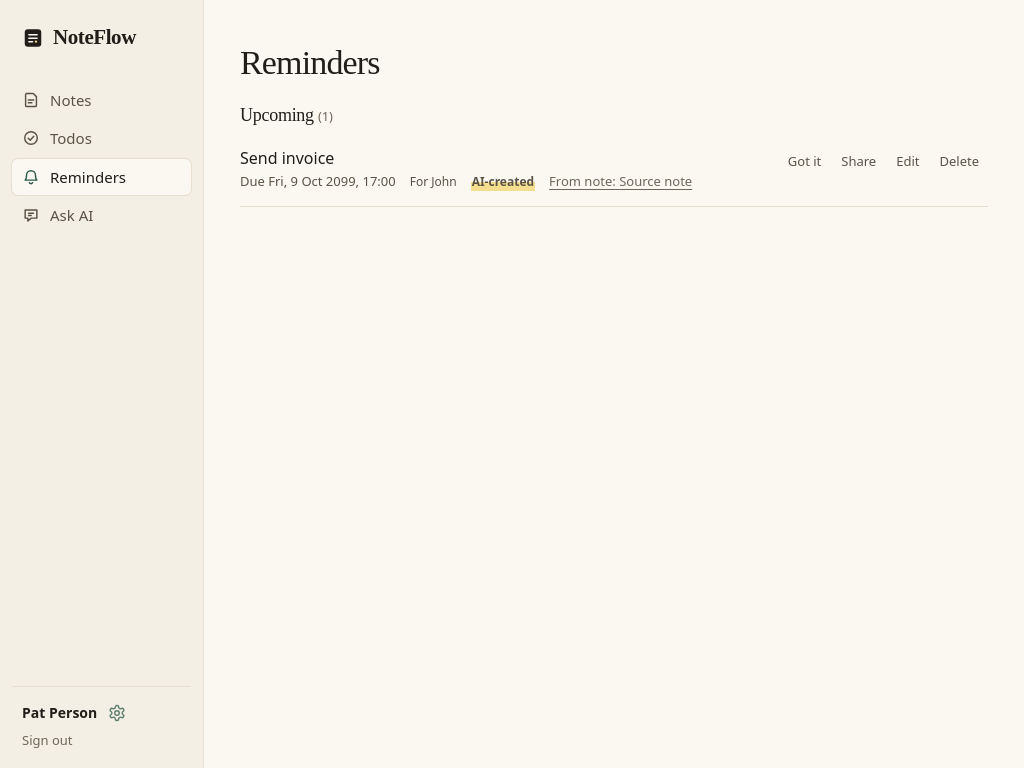
Test: editing › pre-fills text, person and the due date/time in the user timezone
Click the button with aria-label "edit: send invoice": (908, 161) [887,147,928,175]
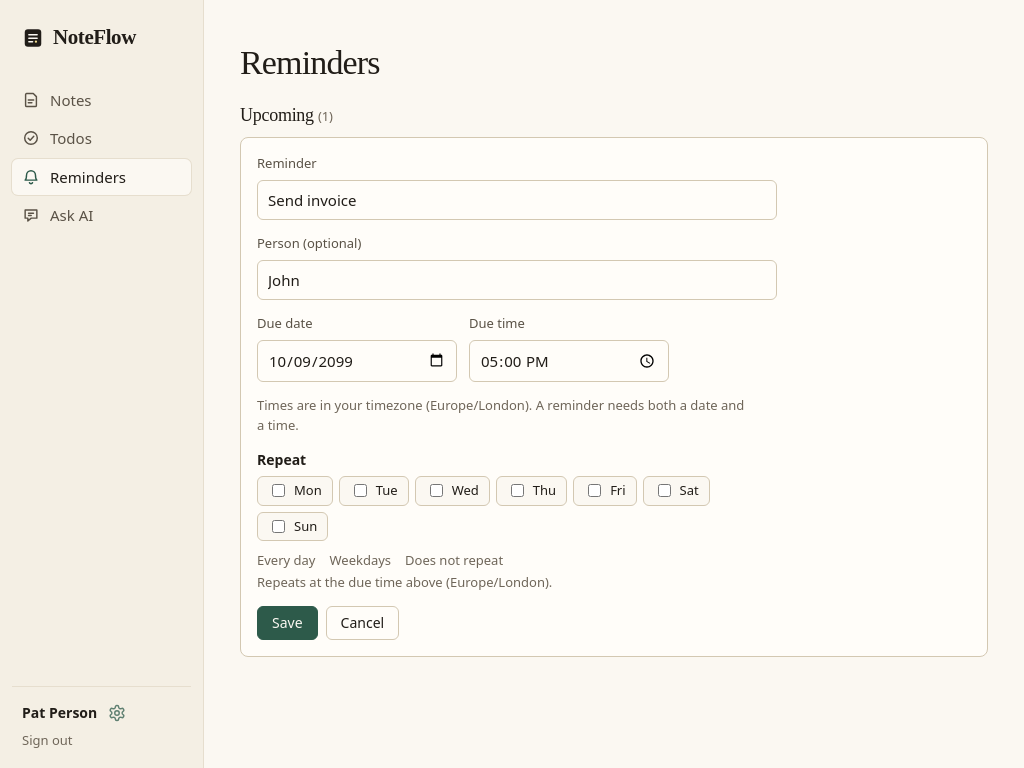
Check: the field labelled "Reminder" holds "Send invoice", box [257,180,777,220]
Check: the field labelled "Person (optional)" holds "John", box [257,260,777,300]
Check: the date field labelled "Due date" holds "2099-10-09", box [257,340,457,382]
